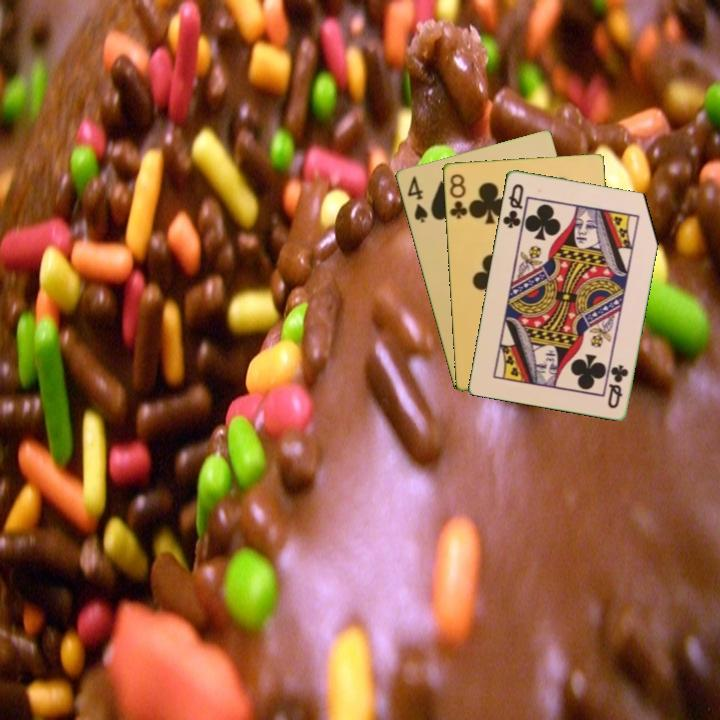4s: (403, 172, 430, 225)
8c: (446, 170, 470, 222)
Qc: (499, 180, 526, 231), (604, 361, 631, 411)
